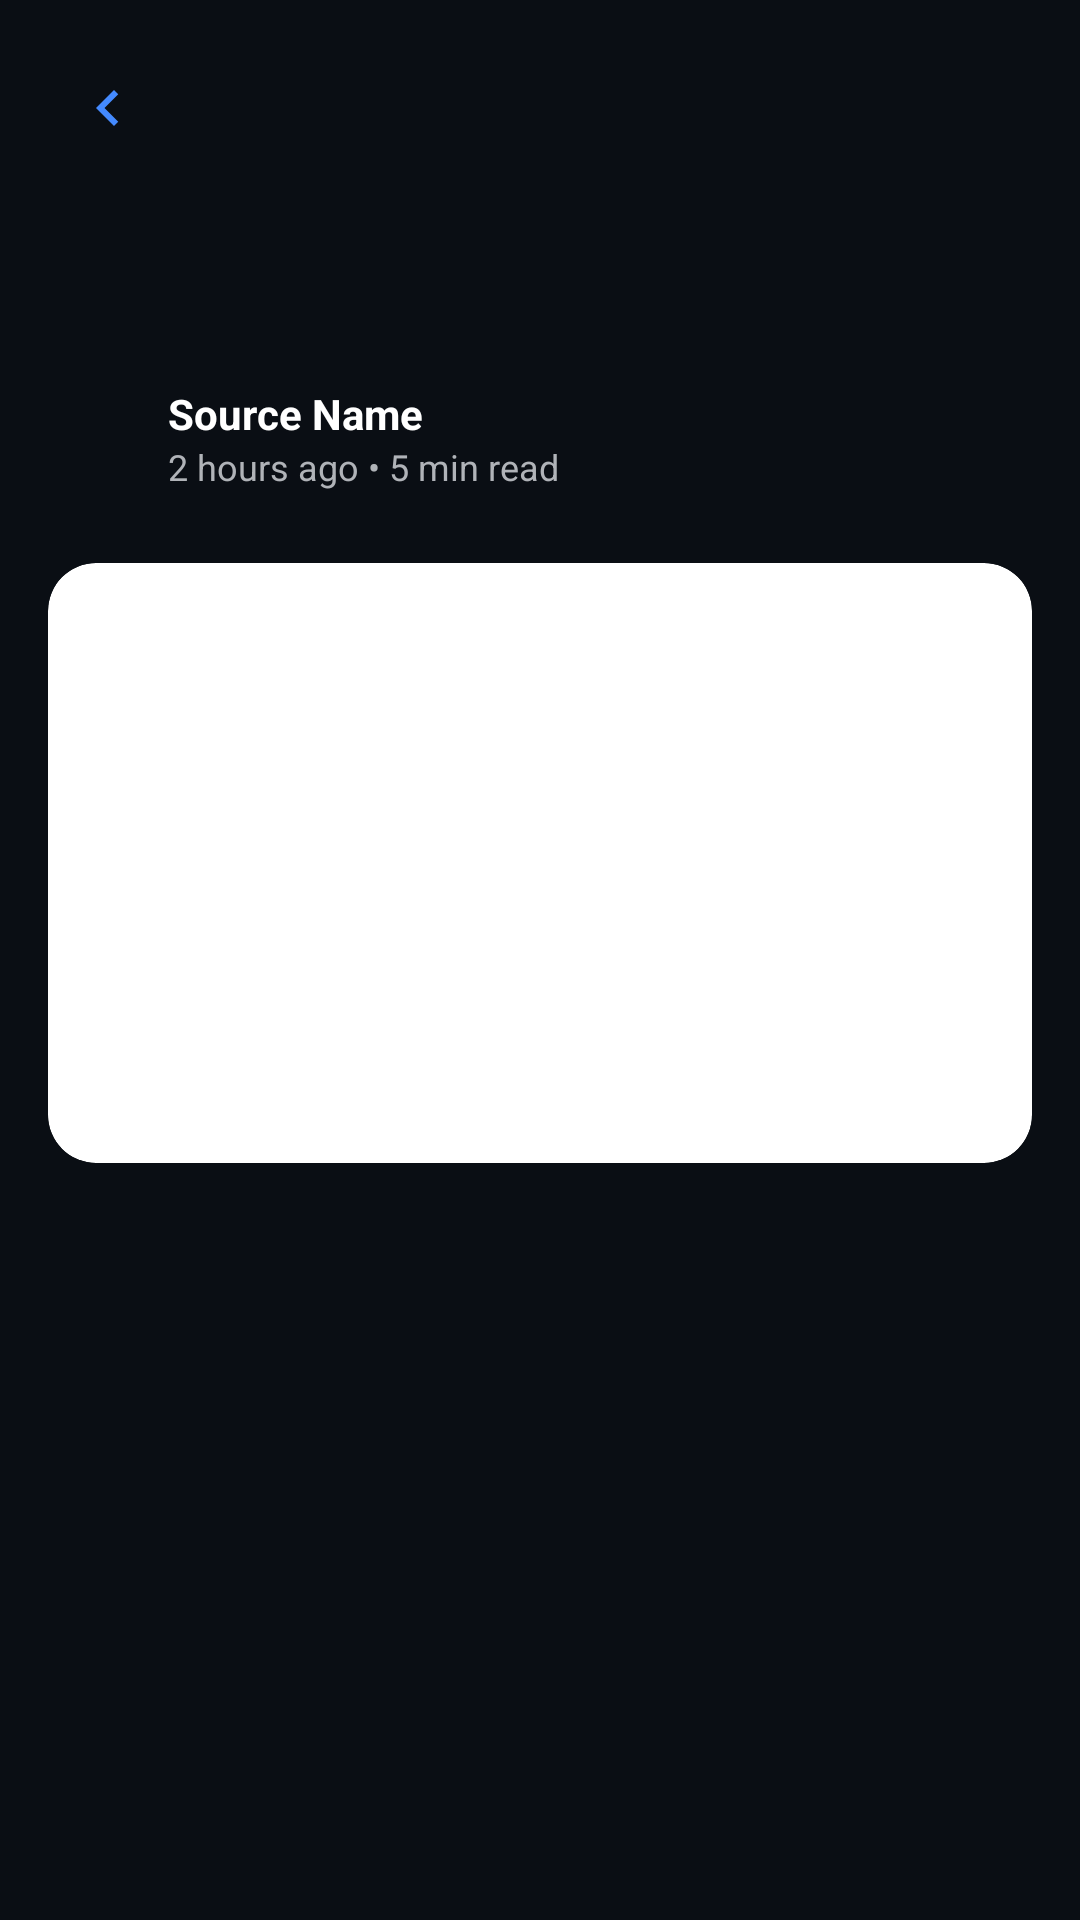

Icons on this 1080x1920 Android screen, each with its box as (x1, y1, x2, y2):
arrow back: (96, 90, 118, 126)
